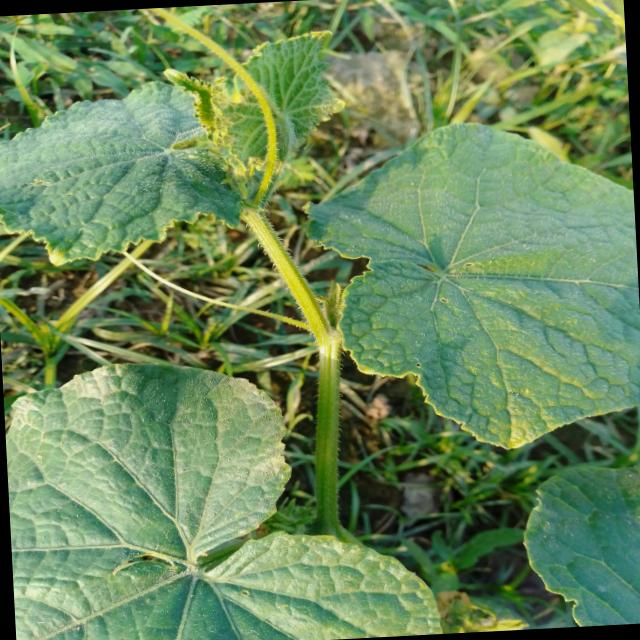cucumber_healthy: (3, 332, 451, 640), (296, 104, 640, 467), (0, 25, 355, 275), (517, 457, 640, 630)
